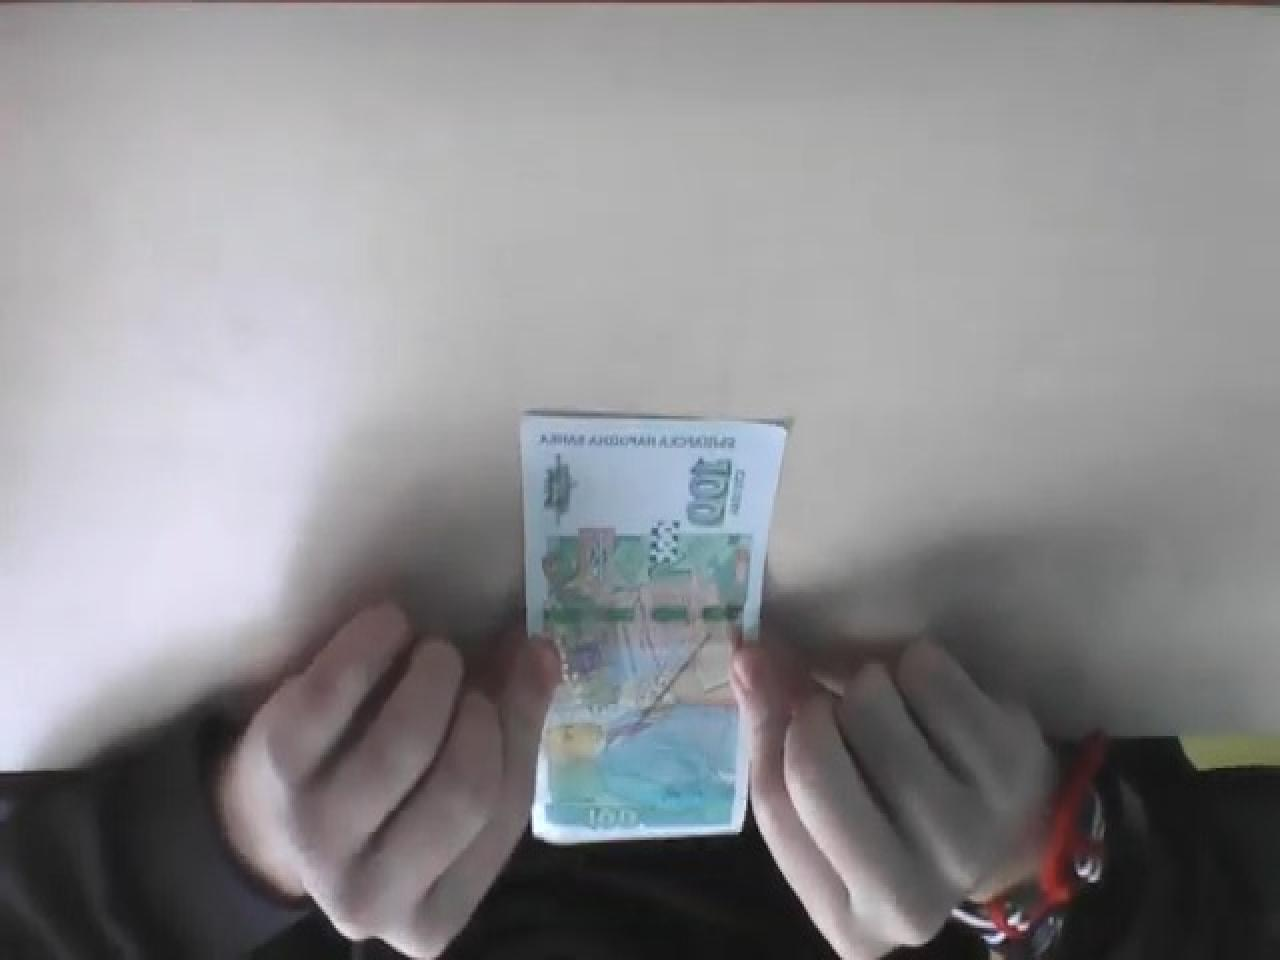100leva: (518, 405, 792, 843)
